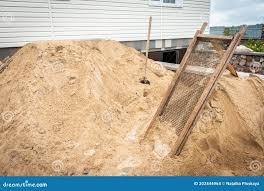sand: (88, 75, 108, 94), (109, 136, 130, 153), (59, 113, 79, 130), (235, 94, 253, 111)
